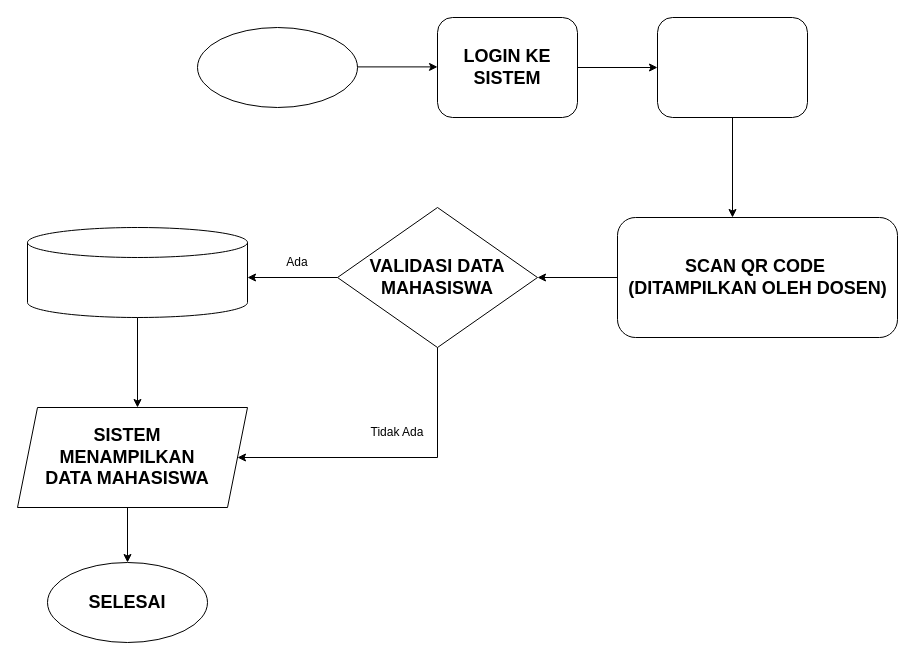
Some shapes in this 915 by 660 pixel diagram are drawn without their labels. The shapes that lost their labels are listed below. From the top down, each one's box as (x1, y1, x2, y2) in pixels, then its label:
(196, 26, 358, 108): MULAI
(656, 16, 808, 118): PILIH MENU ABSENSI QR
(26, 226, 248, 318): SIMPAN CATATAN KEHADIRAN
